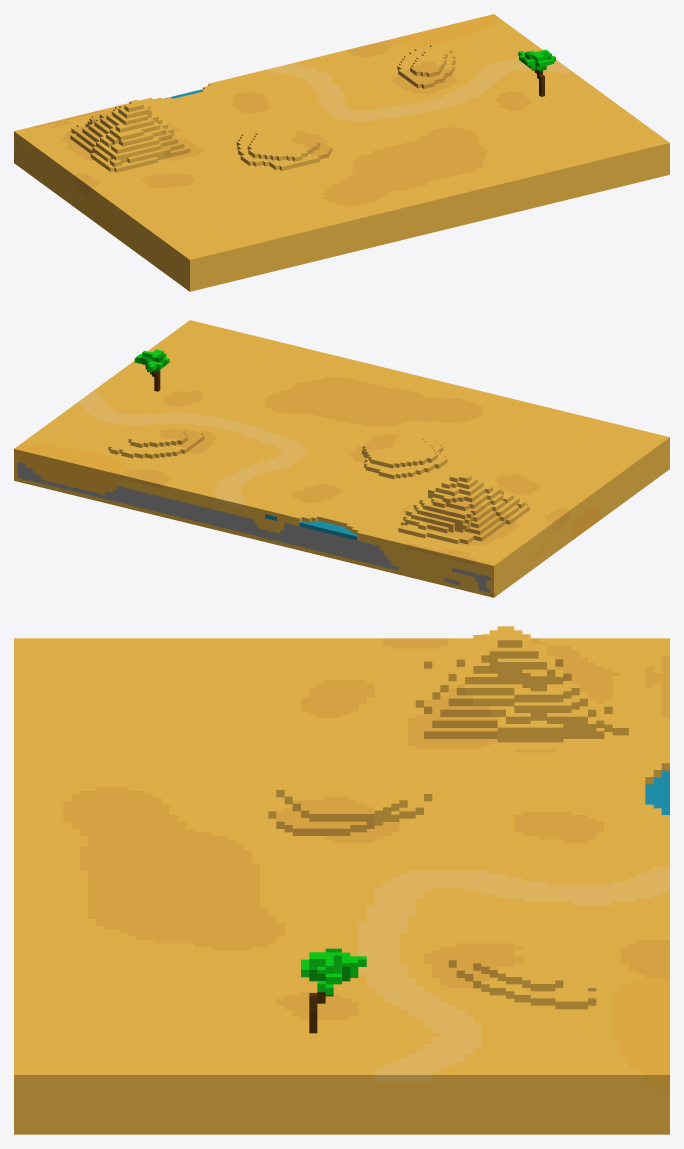
File: Egypt-6.obj
3 views of the same model, one above another, from view 1: azimuth 30°, elevation 25°; view 2: azimuth 150°, elevation 25°; view 3: azimuth 270°, elevation 25° (orthographic). The views are drawn at different scales.
Size of the model in its own units: 12.6 by 1.8 by 8.
1 material, 1 textured.
